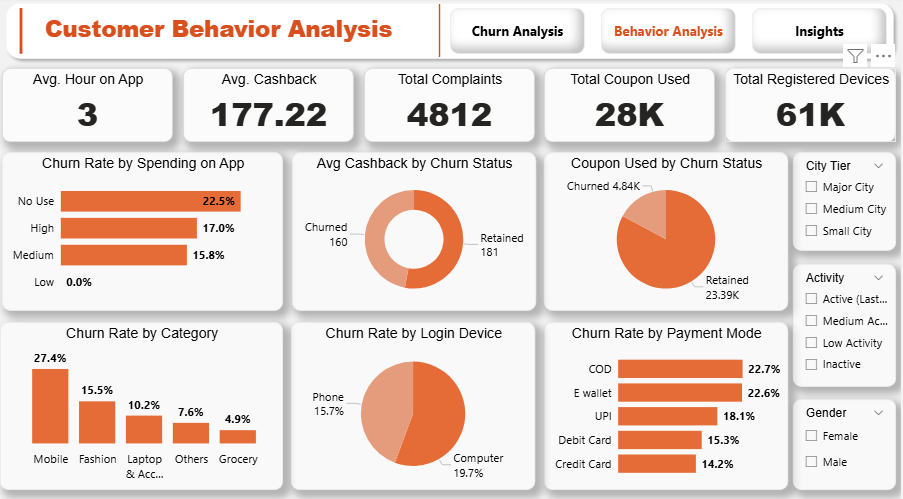

What the dashboard file says about the page in this screenshot:
{"tool":"powerbi","page":{"name":"Behavior Analysis","canvas":[1280,720],"ordinal":1},"visuals":[{"type":"group","id":"g1","title":"Group 1","box":[3.9,0,1275.6,96.4],"z":0},{"type":"shape","box":[3.9,0,1275.6,96.4],"z":0,"group":"g1"},{"type":"textbox","box":[16.7,17,593.9,65.2],"z":1000,"group":"g1"},{"type":"card","title":"Avg. Hour on App","fields":{"Values":["All_Measures.Avg Hours on App"]},"box":[7.1,100.6,242.4,104.9],"z":1000},{"type":"shape","box":[15.2,15.6,36.9,65.2],"z":2000,"group":"g1"},{"type":"card","title":"Avg. Cashback","fields":{"Values":["All_Measures.Avg Cashback"]},"box":[263.3,100.6,242.4,104.9],"z":2000},{"type":"actionButton","box":[641.7,15.6,191.3,65.2],"z":3000,"group":"g1"},{"type":"card","title":"Total Complaints","fields":{"Values":["All_Measures.Total Complaints"]},"box":[519.4,100.6,242.4,104.9],"z":3000},{"type":"shape","box":[619,9.9,15.6,75.1],"z":4000,"group":"g1"},{"type":"card","title":"Total Registered Devices","fields":{"Values":["All_Measures.Avg. Registered Devices"]},"box":[1031.8,100.6,242.4,104.9],"z":4000},{"type":"actionButton","box":[855.7,15.6,191.3,65.2],"z":5000,"group":"g1"},{"type":"card","title":"Total Coupon Used","fields":{"Values":["All_Measures.Avg. Coupon Used"]},"box":[775.6,100.6,242.4,104.9],"z":5000},{"type":"actionButton","box":[1069.7,15.6,191.3,65.2],"z":6000,"group":"g1"},{"type":"clusteredBarChart","title":"Churn Rate by Spending on App","fields":{"Y":["All_Measures.Churn Rate"],"Category":["Ecommerce_Data.Hour Spend on App Category"]},"box":[7.1,219.7,398.3,225.4],"z":6000},{"type":"donutChart","fields":{"Category":["Ecommerce_Data.Churn Status"],"Y":["All_Measures.Avg Cashback"]},"box":[417.4,219.7,345.8,225.4],"z":7000},{"type":"pieChart","title":"Coupon Used by Churn Status","fields":{"Y":["All_Measures.Total Coupon Used"],"Category":["Ecommerce_Data.Churn Status"]},"box":[775.3,219.7,345.8,225.4],"z":8000},{"type":"clusteredBarChart","title":"Churn Rate by Payment Mode","fields":{"Category":["Ecommerce_Data.Preferred Payment Mode"],"Y":["All_Measures.Churn Rate"]},"box":[775.3,460.6,345.8,238.1],"z":9000},{"type":"clusteredColumnChart","title":"Churn Rate by Category","fields":{"Category":["Ecommerce_Data.Prefered Order Category"],"Y":["All_Measures.Churn Rate"]},"box":[4.3,460.6,401.1,238.1],"z":10000},{"type":"slicer","fields":{"Values":["Ecommerce_Data.City Tier"]},"box":[1128.2,219.7,146,140.3],"z":11000},{"type":"slicer","fields":{"Values":["Ecommerce_Data.Sex"]},"box":[1128.2,569.8,146,129],"z":12000},{"type":"slicer","fields":{"Values":["Activity Status Table.Activity Status"]},"box":[1128.2,377.7,146,174.3],"z":13000},{"type":"pieChart","title":"Churn Rate by Login Device","fields":{"Y":["All_Measures.Churn Rate"],"Category":["Ecommerce_Data.Preferred Login Device"]},"box":[417,461,346,238],"z":14000}]}

Visuals, with their boxes in screenshot pixels (x1, y1, x2, y2), scaled from the page's 1280x720 canvas onto the 903x499 screenshot:
"Group 1" group: x1=3 y1=0 x2=902 y2=67
shape: x1=3 y1=0 x2=902 y2=67
textbox: x1=12 y1=12 x2=431 y2=57
"Avg. Hour on App" card: x1=5 y1=70 x2=176 y2=142
shape: x1=11 y1=11 x2=37 y2=56
"Avg. Cashback" card: x1=186 y1=70 x2=357 y2=142
actionButton: x1=453 y1=11 x2=588 y2=56
"Total Complaints" card: x1=366 y1=70 x2=537 y2=142
shape: x1=437 y1=7 x2=448 y2=59
"Total Registered Devices" card: x1=728 y1=70 x2=899 y2=142
actionButton: x1=604 y1=11 x2=739 y2=56
"Total Coupon Used" card: x1=547 y1=70 x2=718 y2=142
actionButton: x1=755 y1=11 x2=890 y2=56
"Churn Rate by Spending on App" clusteredBarChart: x1=5 y1=152 x2=286 y2=308
donutChart - Ecommerce_Data.Churn Status x All_Measures.Avg Cashback: x1=294 y1=152 x2=538 y2=308
"Coupon Used by Churn Status" pieChart: x1=547 y1=152 x2=791 y2=308
"Churn Rate by Payment Mode" clusteredBarChart: x1=547 y1=319 x2=791 y2=484
"Churn Rate by Category" clusteredColumnChart: x1=3 y1=319 x2=286 y2=484
slicer - Ecommerce_Data.City Tier: x1=796 y1=152 x2=899 y2=250
slicer - Ecommerce_Data.Sex: x1=796 y1=395 x2=899 y2=484
slicer - Activity Status Table.Activity Status: x1=796 y1=262 x2=899 y2=383
"Churn Rate by Login Device" pieChart: x1=294 y1=319 x2=538 y2=484
